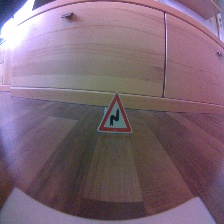vorsicht: (94, 90, 134, 135)
